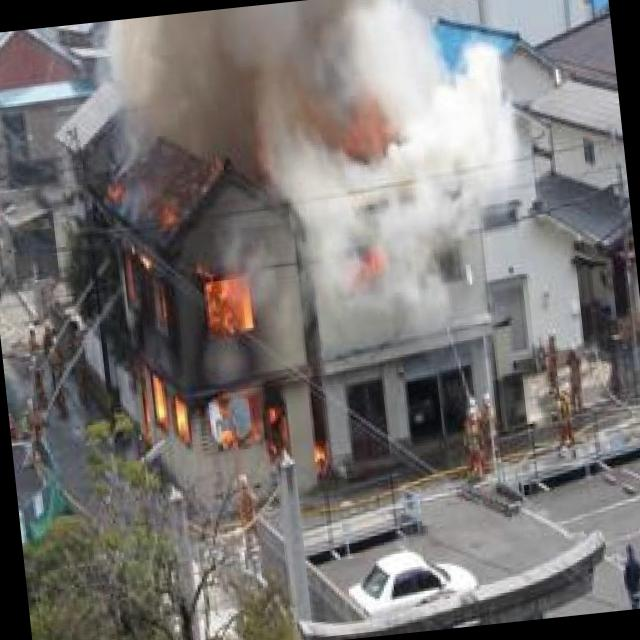Fire: (83, 160, 334, 508)
Smoke: (282, 0, 551, 339), (106, 2, 298, 178)
